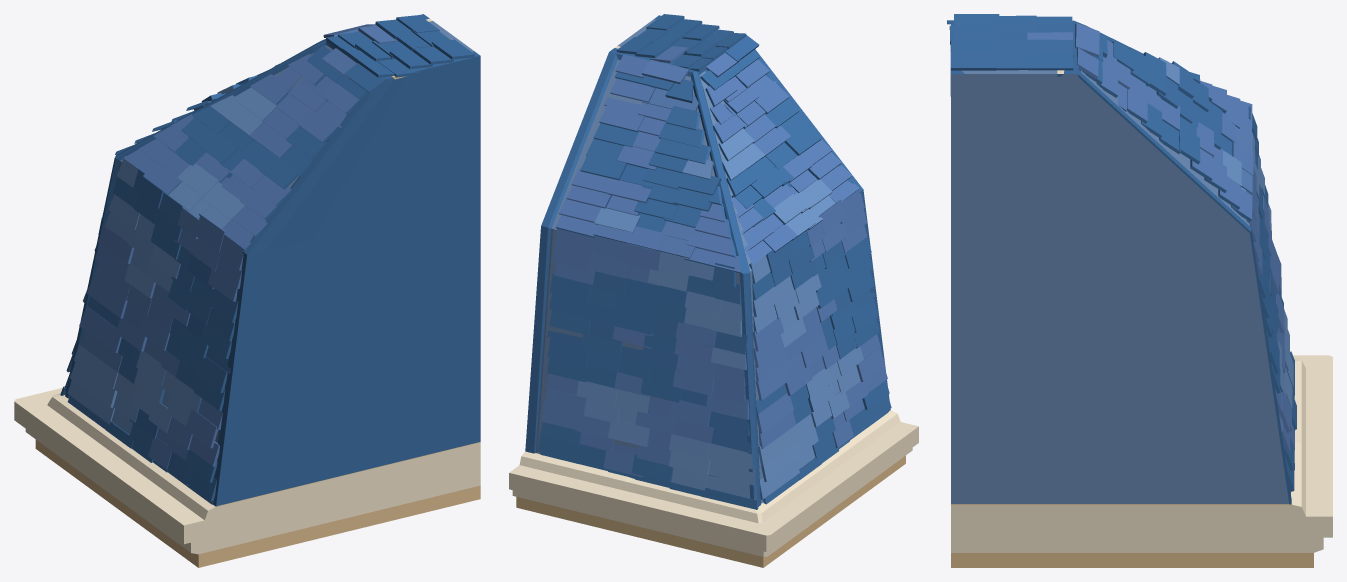
The model's file is Roof_Corner_OUTER_STRAIGHT.fbx.
3 views of the same model, side by side, from view 1: azimuth 30°, elevation 25°; view 2: azimuth 150°, elevation 25°; view 3: azimuth 270°, elevation 25° (orthographic). The views are drawn at different scales.
Parts seen in each view (by area): view 1: Roof_Corner_OUTER_STRAIGHT; view 2: Roof_Corner_OUTER_STRAIGHT; view 3: Roof_Corner_OUTER_STRAIGHT.
Part boxes in pixels (<box>): Roof_Corner_OUTER_STRAIGHT: <box>14,14,480,567</box>; Roof_Corner_OUTER_STRAIGHT: <box>509,14,918,567</box>; Roof_Corner_OUTER_STRAIGHT: <box>947,14,1332,567</box>.
Bounding box in the file's own units: 210 × 213 × 304.
